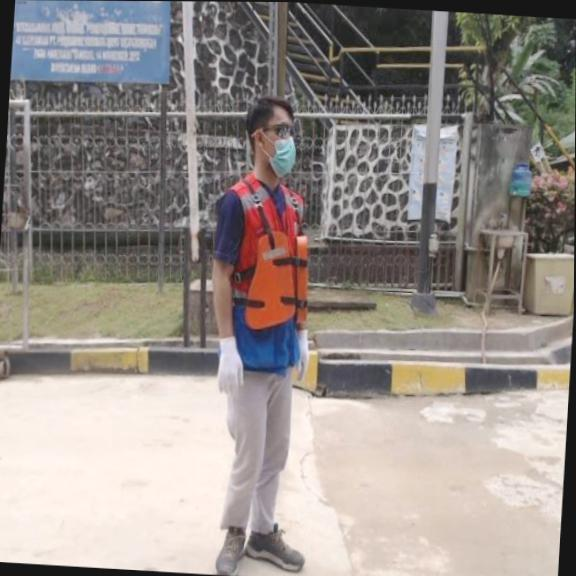safety_vest: (244, 229, 314, 333)
